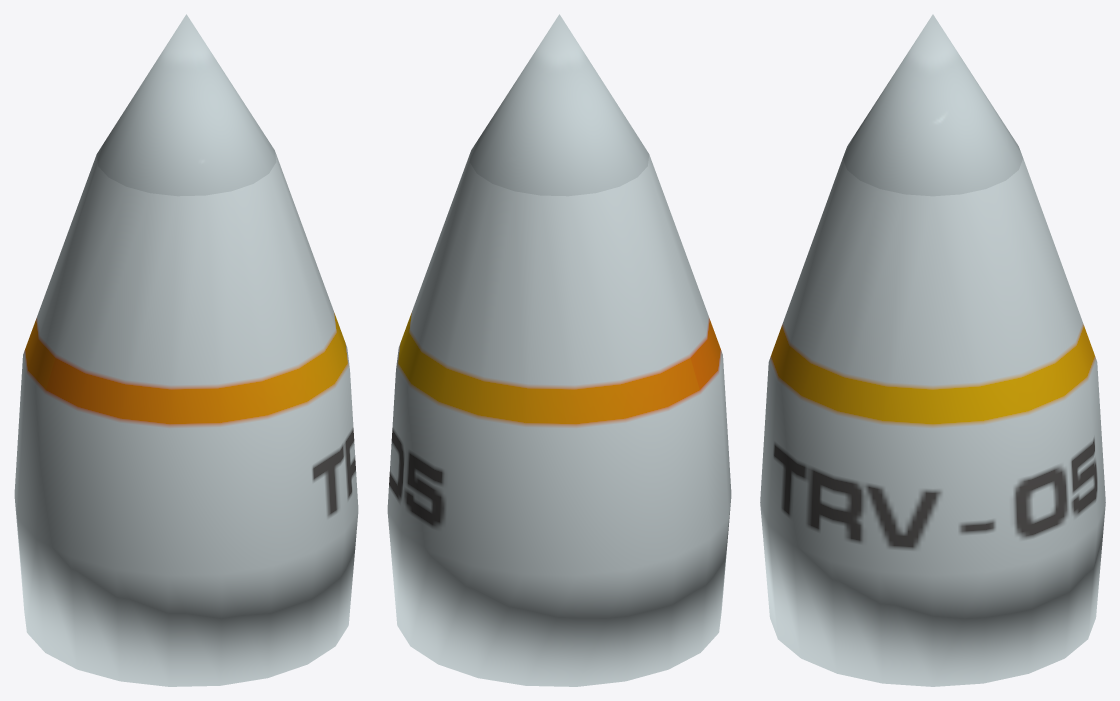
The picture shows the model from 3 angles, left to right: view 1: azimuth 30°, elevation 25°; view 2: azimuth 150°, elevation 25°; view 3: azimuth 270°, elevation 25°; orthographic projection.
Parts seen in each view (by area): view 1: P1; view 2: P1; view 3: P1.
Boxes of the visible parts, x1,y1,x2,y2 form: P1: (14,14,358,686); P1: (387,14,731,686); P1: (760,14,1105,686).
Size of the model in its own units: 14.84 by 28.6 by 14.84.
Materials: 1 (1 with a texture image).
